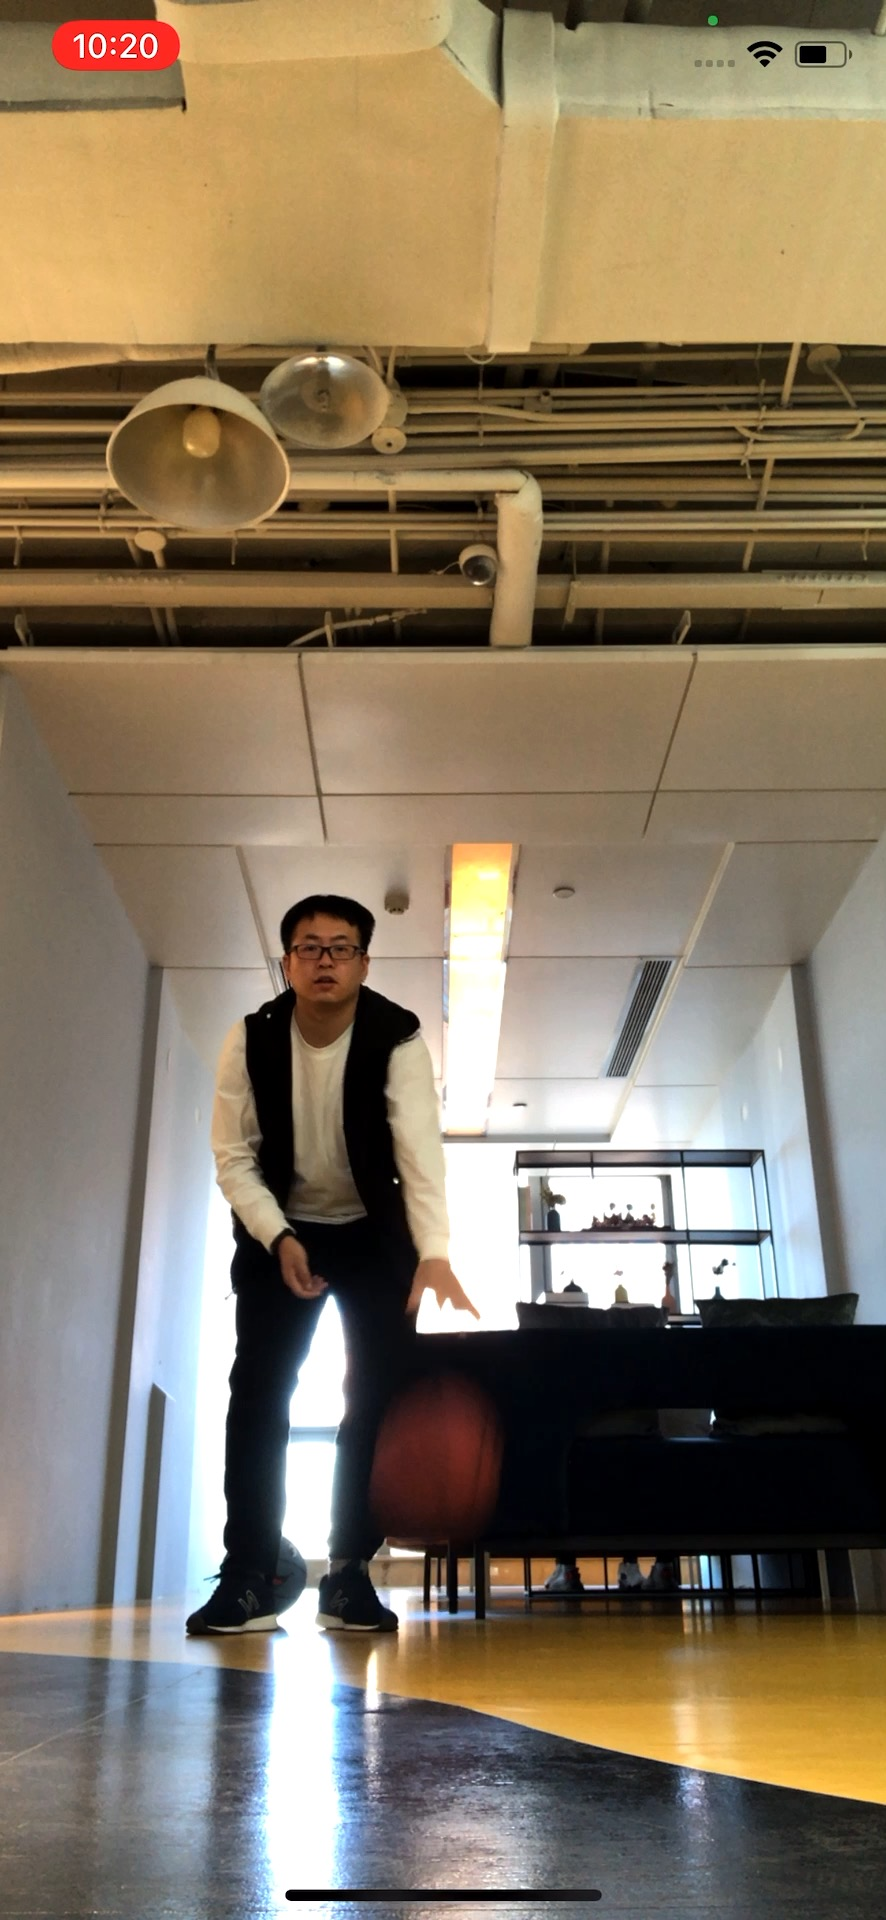ball: (374, 1393, 501, 1521)
